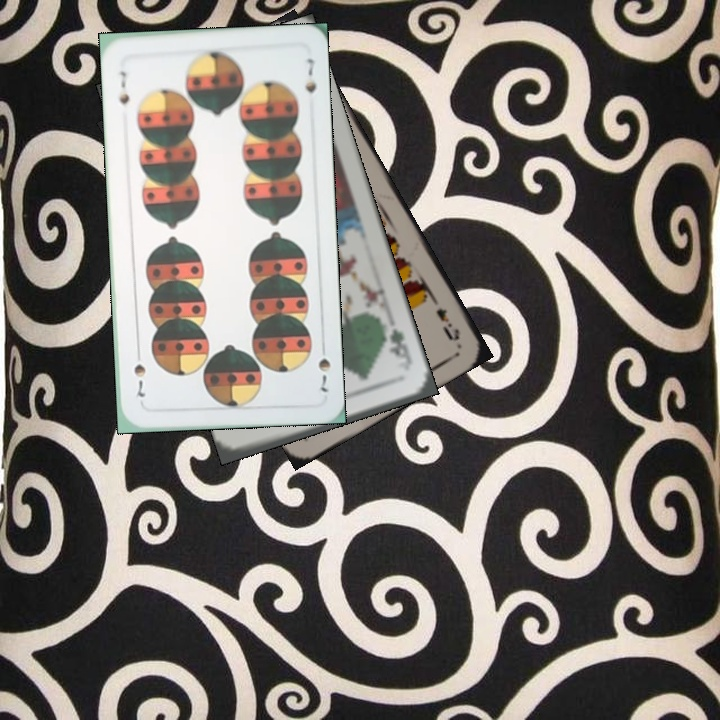E9: (427, 292, 463, 344)
GK: (385, 324, 414, 370)
S7: (314, 338, 333, 394), (115, 66, 132, 106)
